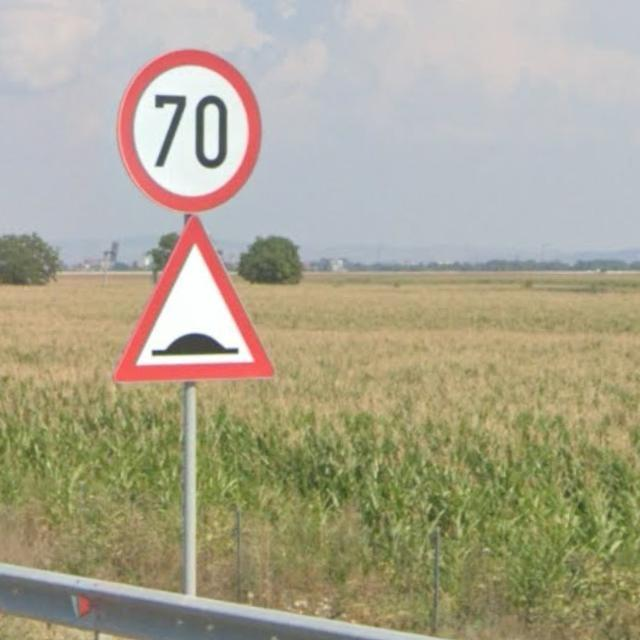forb_speed_over_70: (113, 49, 264, 212)
